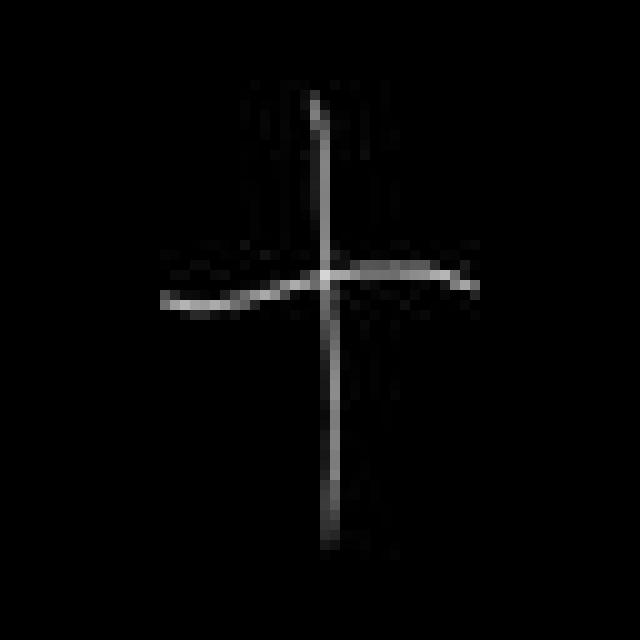10 -ten-: (153, 90, 488, 539)
